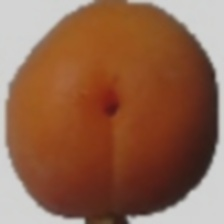apricot: (47, 8, 196, 206)
